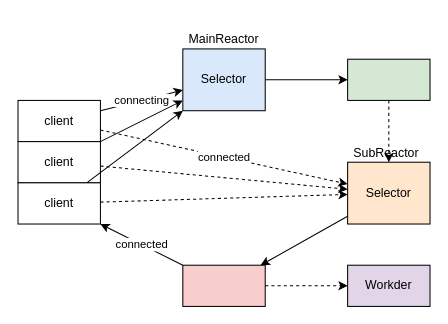
Some shapes in this 448 by 324 pixel diagram are drawn without their labels. Each missing label, with the centre of its shape:
Acceptor: the point at 388,79
Handler: the point at 223,285
